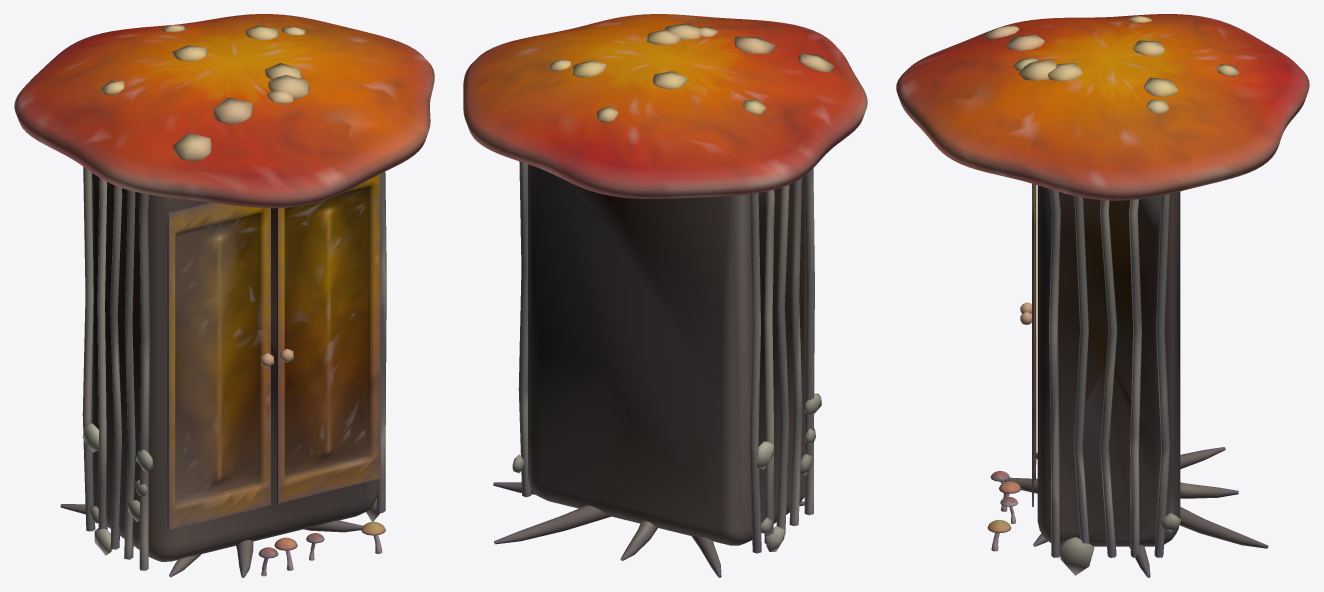
File: mantar_dolap.glb
3 views of the same model, side by side, from view 1: azimuth 30°, elevation 25°; view 2: azimuth 150°, elevation 25°; view 3: azimuth 270°, elevation 25° (orthographic). The views are drawn at different scales.
Parts seen in each view (by area): view 1: mantar_dolap_LOD0; view 2: mantar_dolap_LOD0; view 3: mantar_dolap_LOD0.
Boxes of the visible parts, x1,y1,x2,y2 form: mantar_dolap_LOD0: [14, 14, 434, 577]; mantar_dolap_LOD0: [463, 14, 867, 577]; mantar_dolap_LOD0: [896, 14, 1309, 577].
Size of what is drawn, in the model's own units: 1.89 by 2.37 by 1.91.
